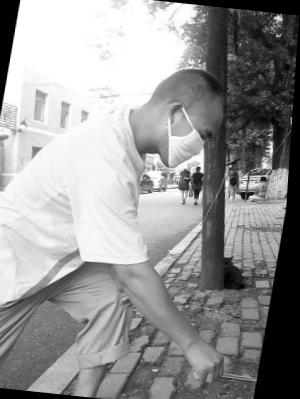WRONG: (157, 103, 221, 172)
